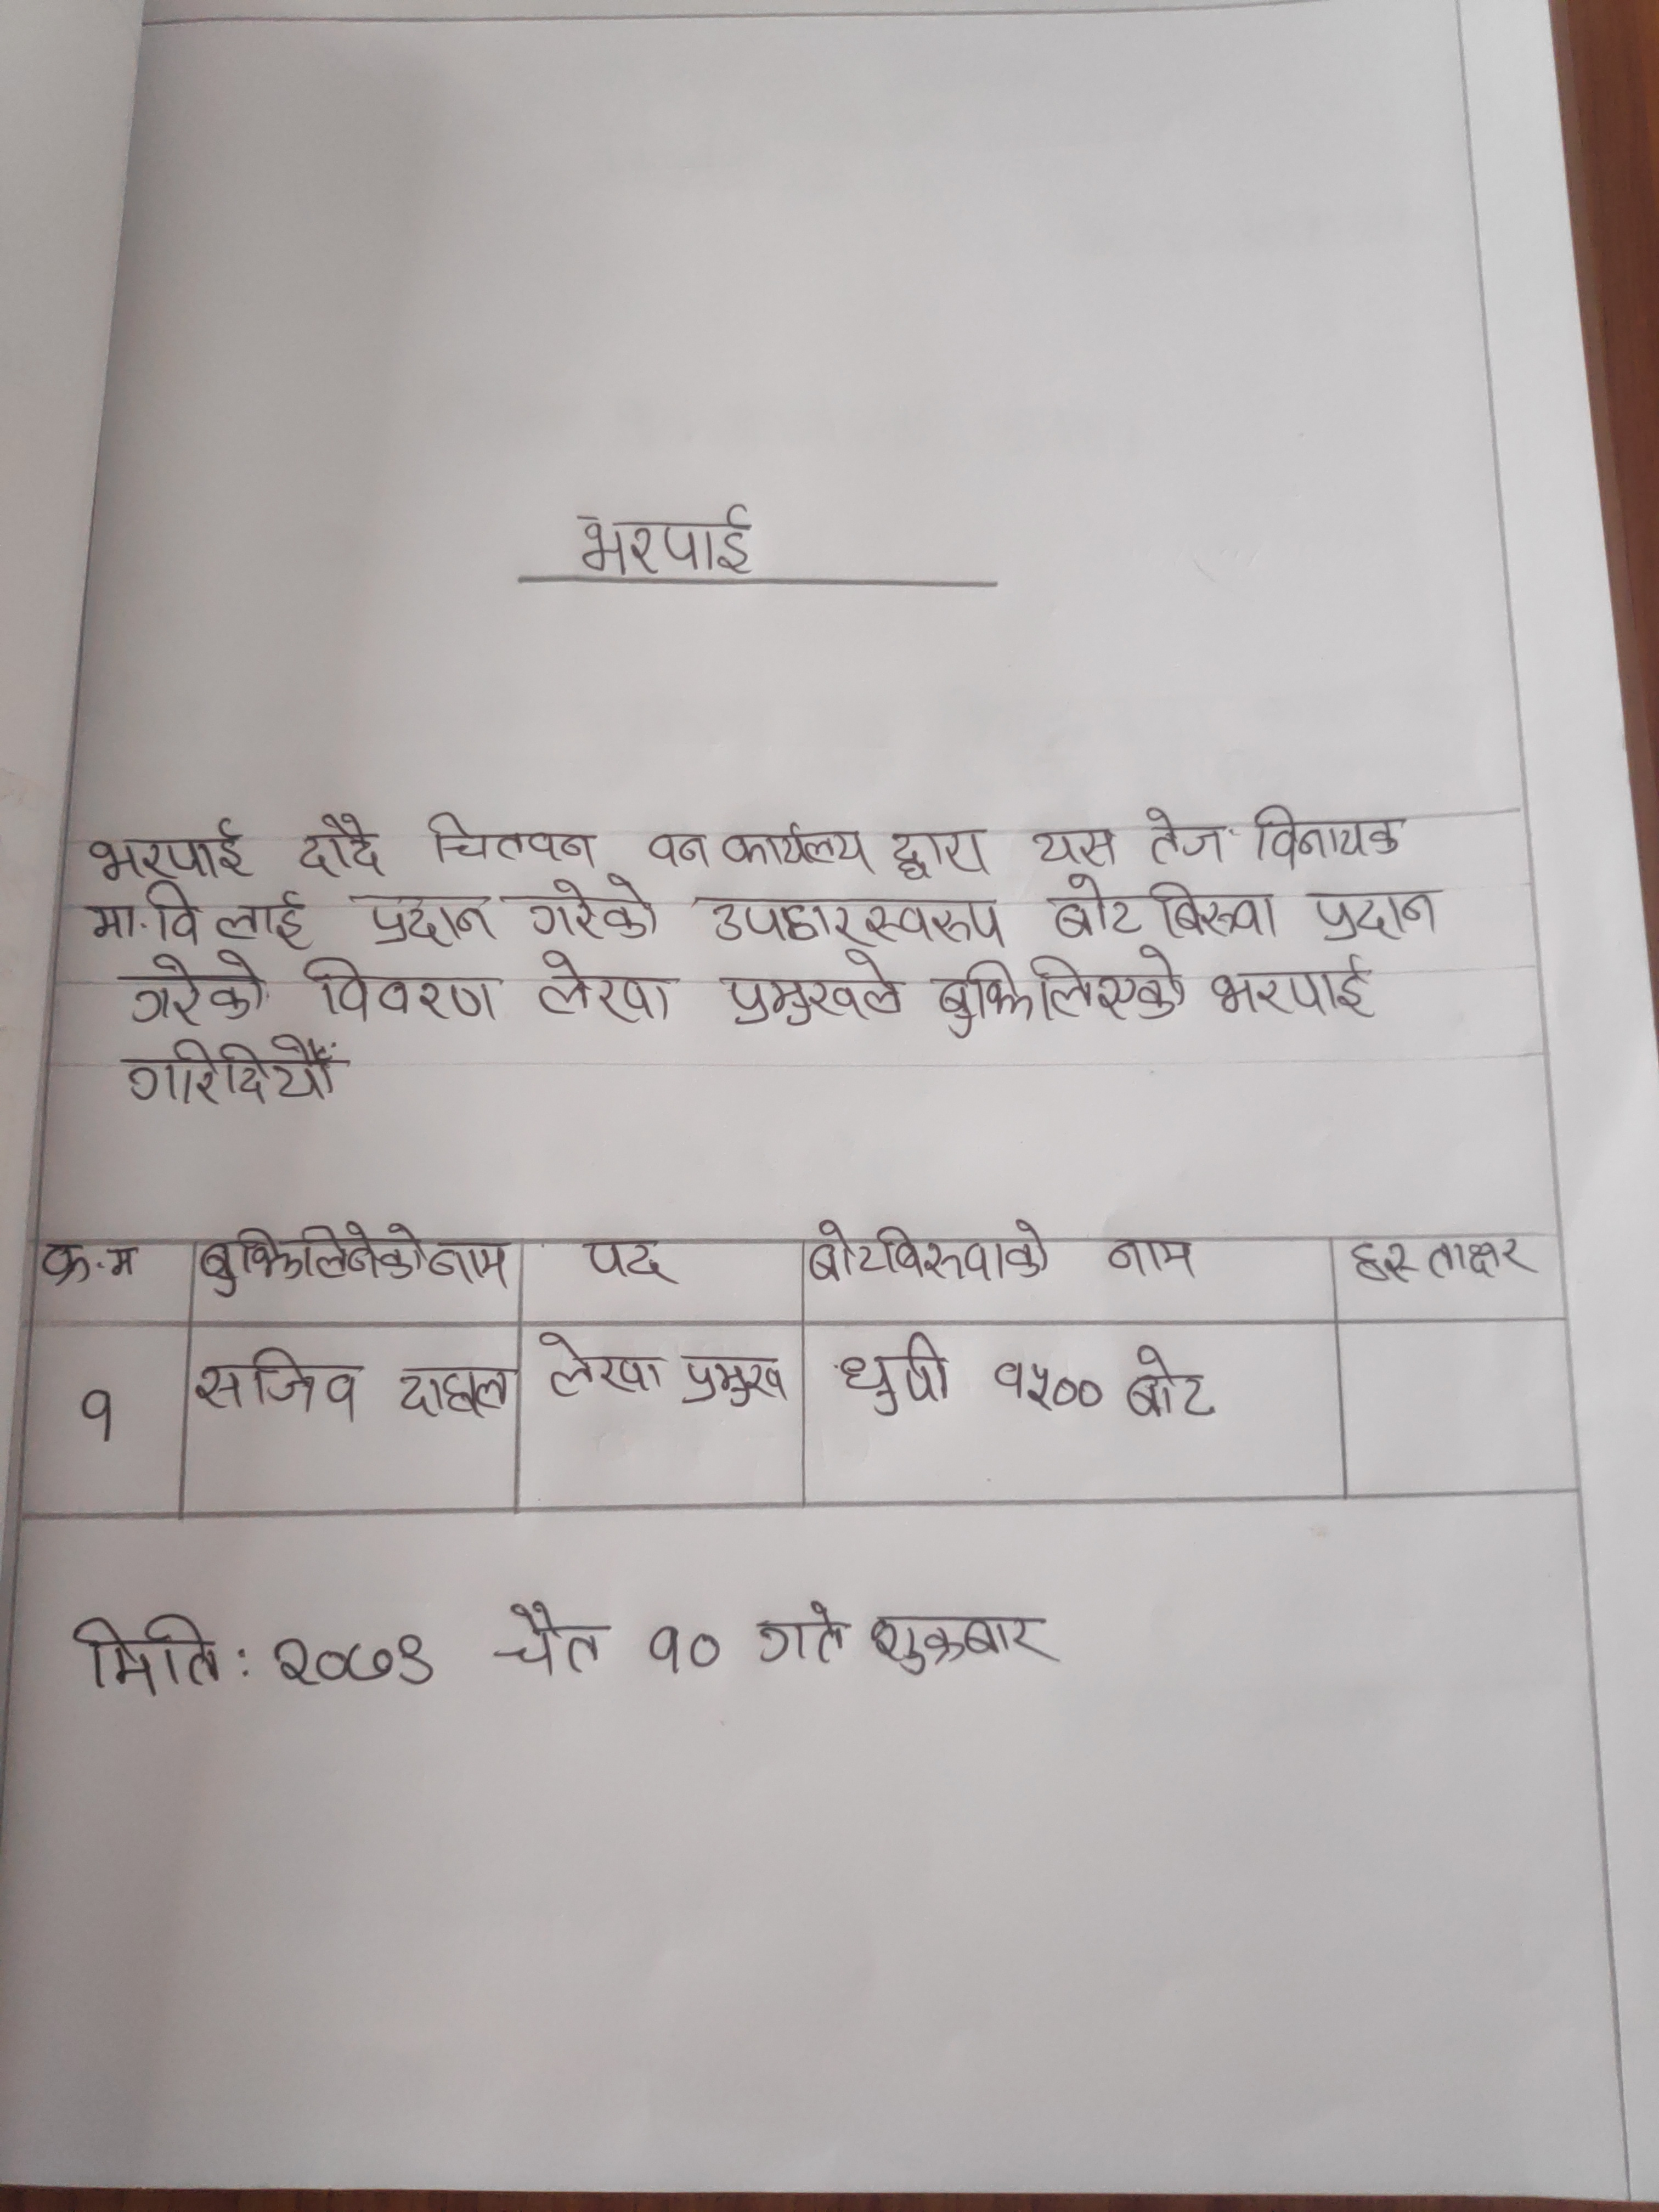text: (188, 1224, 511, 1296), (934, 953, 1199, 1031), (694, 890, 1006, 946), (124, 1038, 361, 1111), (1042, 871, 1283, 939), (563, 502, 762, 583), (807, 1214, 1049, 1280), (716, 949, 915, 1026), (296, 956, 505, 1028), (192, 1345, 366, 1426), (66, 1611, 230, 1698), (82, 885, 310, 946), (859, 1608, 1063, 1674), (115, 944, 268, 1028), (77, 813, 251, 881), (422, 805, 592, 873), (488, 1594, 615, 1684), (532, 1324, 669, 1407), (525, 949, 674, 1024), (833, 1331, 955, 1421), (1209, 956, 1370, 1024), (1246, 796, 1410, 860), (1340, 1233, 1541, 1285), (260, 1634, 441, 1691), (347, 883, 504, 944), (1298, 880, 1441, 944), (525, 878, 666, 942), (723, 820, 875, 878), (1124, 1339, 1222, 1426), (389, 1359, 518, 1423), (983, 1350, 1105, 1418), (671, 1348, 791, 1414), (748, 1601, 852, 1663), (884, 819, 983, 881), (295, 813, 382, 883), (1136, 803, 1230, 867), (35, 1237, 153, 1287), (640, 1616, 725, 1683), (1103, 1231, 1201, 1287), (575, 1237, 678, 1285), (1025, 819, 1121, 869), (640, 826, 713, 874), (75, 1388, 125, 1449)
